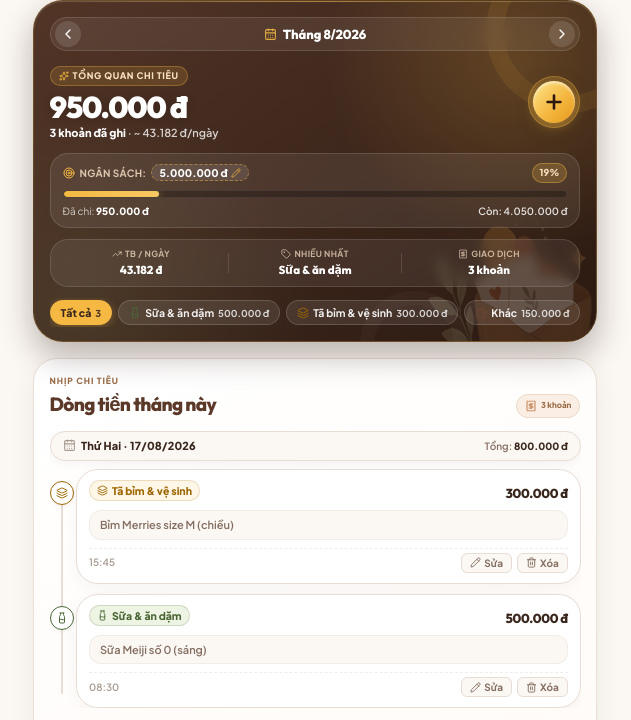
Test: ExpensesView Component › allows navigating months
The width and height of the screenshot is (631, 720).
Click the button named "Tháng trước".
click(68, 34)  # box left=55, top=21, right=81, bottom=47
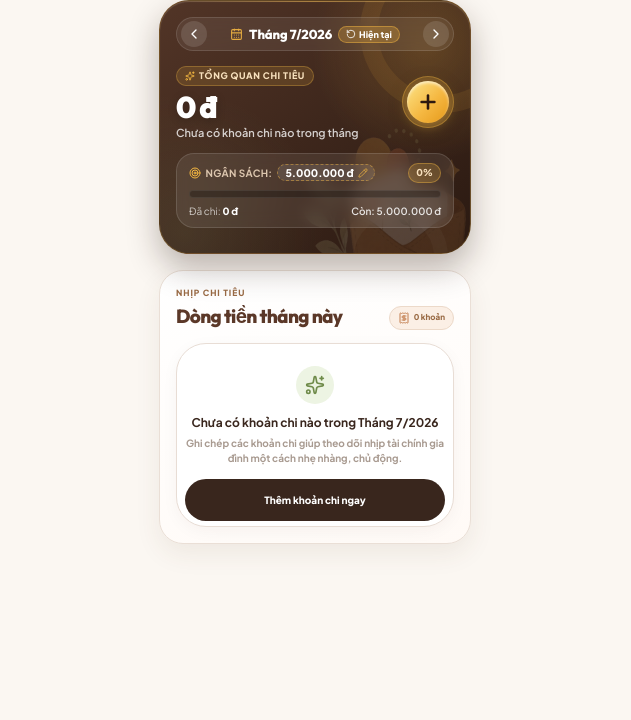
Expected: the heading "0 đ" is shown, left=176, top=88, right=216, bottom=126
Click the button "Hiện tại".
click(369, 34)  # box left=338, top=26, right=400, bottom=42
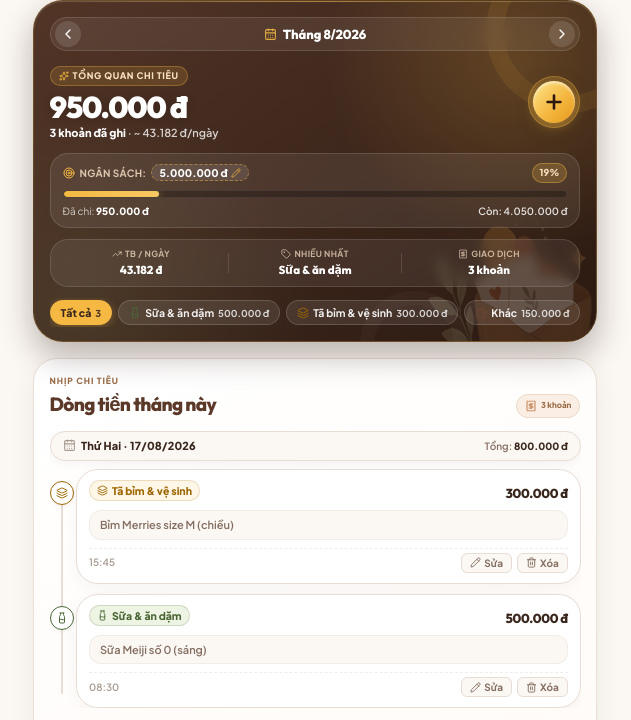
Result: the heading "950.000 đ" is shown at left=50, top=88, right=186, bottom=126
